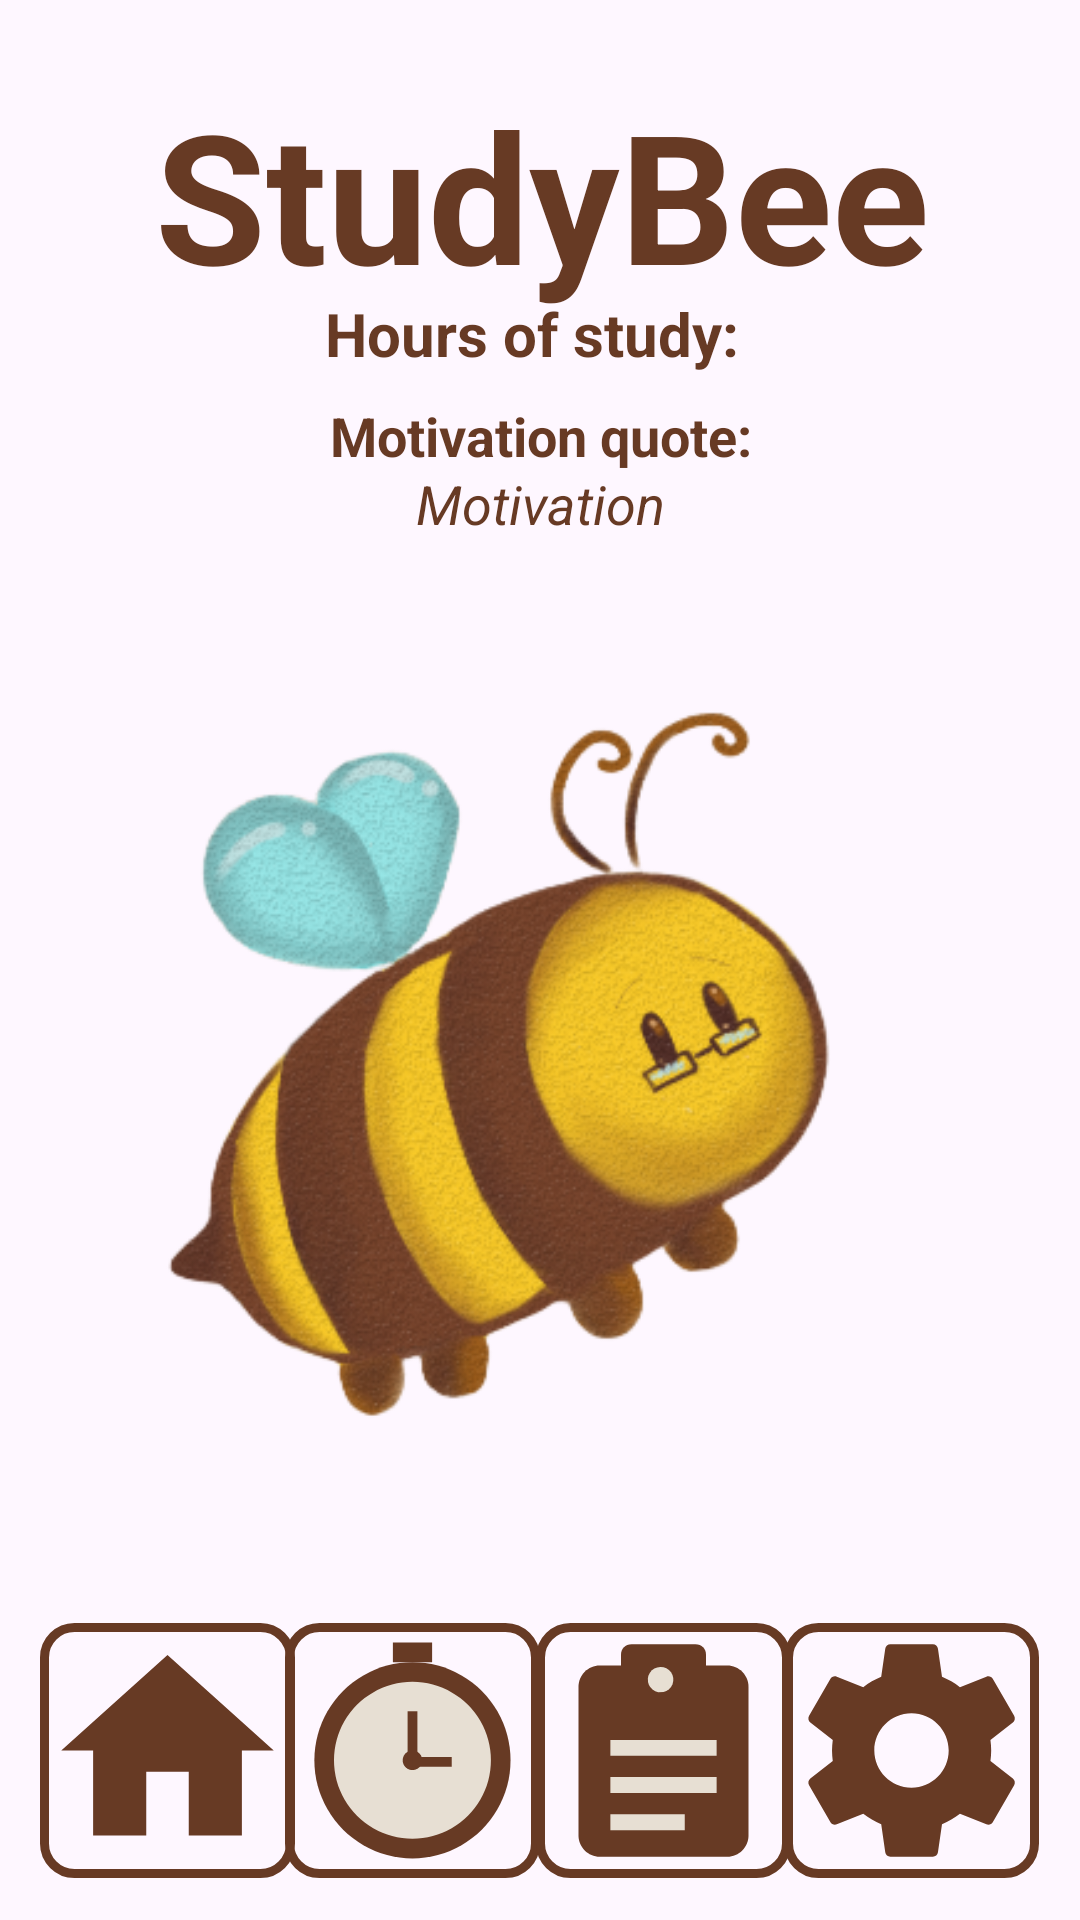

Icon click points for this 1080w x 1920h phone screenshot, format point (x, y):
homebutton: point (167, 1745)
settingsbutton: point (911, 1750)
